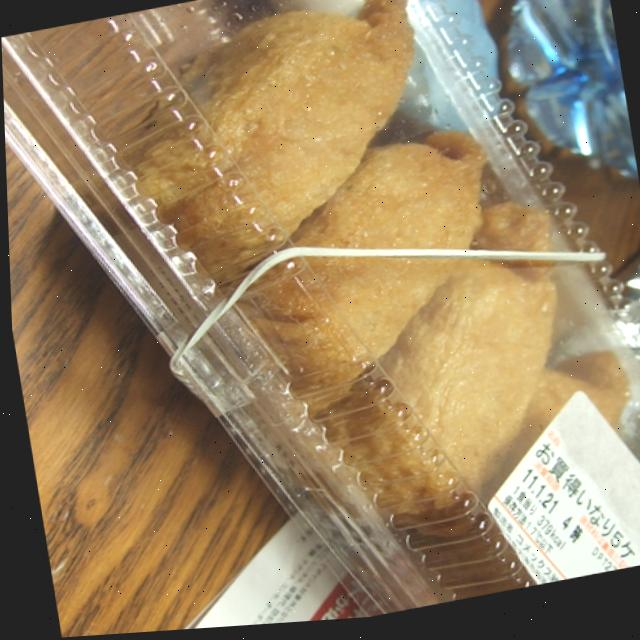寿司卷物: (87, 0, 640, 635)
